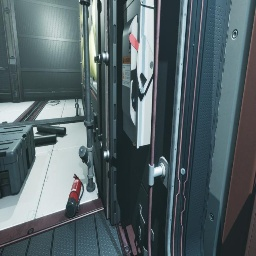FireExtinguisher ]: (65, 174, 84, 218)
SafetySwitchPanel ,: (122, 0, 156, 149)
